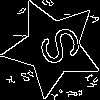S: (28, 22, 85, 74)
